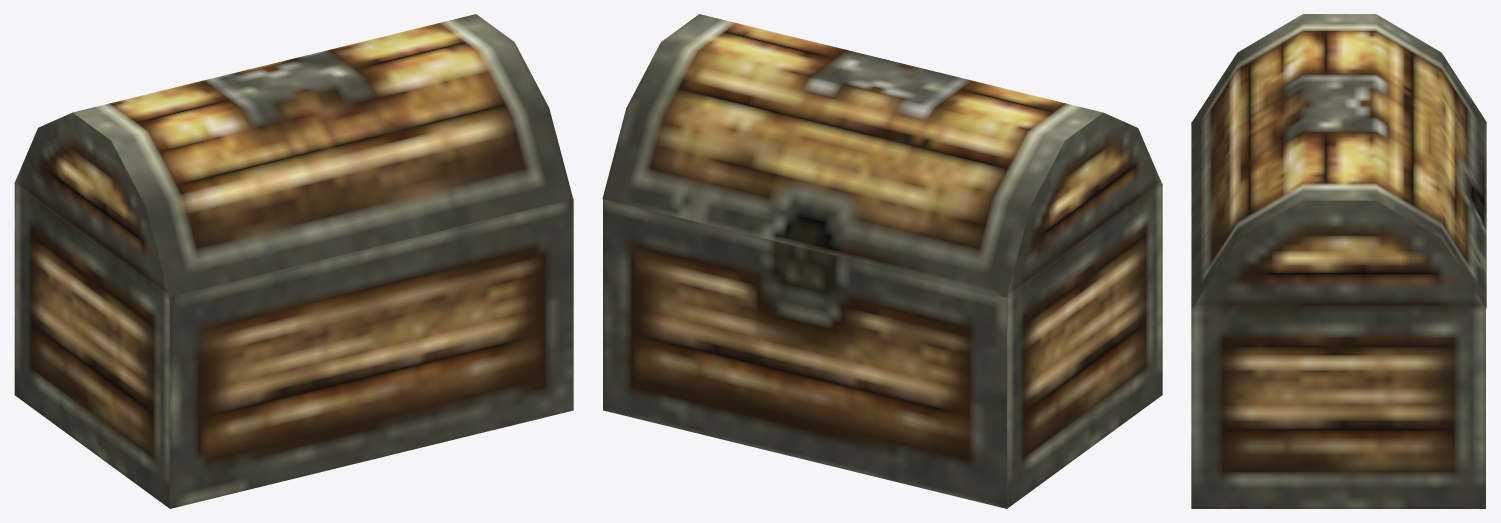
File: anterose.gltf
3 renders of one model, left to right at view 1: azimuth 30°, elevation 25°; view 2: azimuth 150°, elevation 25°; view 3: azimuth 270°, elevation 25°, orthographic. The views are drawn at different scales.
Visible parts, largest first — view 1: mesh_Mesh_T01box00_Layer1, mesh_Mesh_T01box00_Layer2; view 2: mesh_Mesh_T01box00_Layer1, mesh_Mesh_T01box00_Layer2; view 3: mesh_Mesh_T01box00_Layer2, mesh_Mesh_T01box00_Layer1.
Part boxes in pixels (bbox=[...]): mesh_Mesh_T01box00_Layer1: bbox=[14, 184, 573, 508]; mesh_Mesh_T01box00_Layer2: bbox=[14, 14, 573, 297]; mesh_Mesh_T01box00_Layer1: bbox=[603, 183, 1162, 508]; mesh_Mesh_T01box00_Layer2: bbox=[602, 14, 1161, 297]; mesh_Mesh_T01box00_Layer2: bbox=[1192, 14, 1486, 308]; mesh_Mesh_T01box00_Layer1: bbox=[1191, 122, 1485, 508].
Size of the model in its own units: 1.12 by 0.8664 by 0.7518.
1 material, 1 textured.
